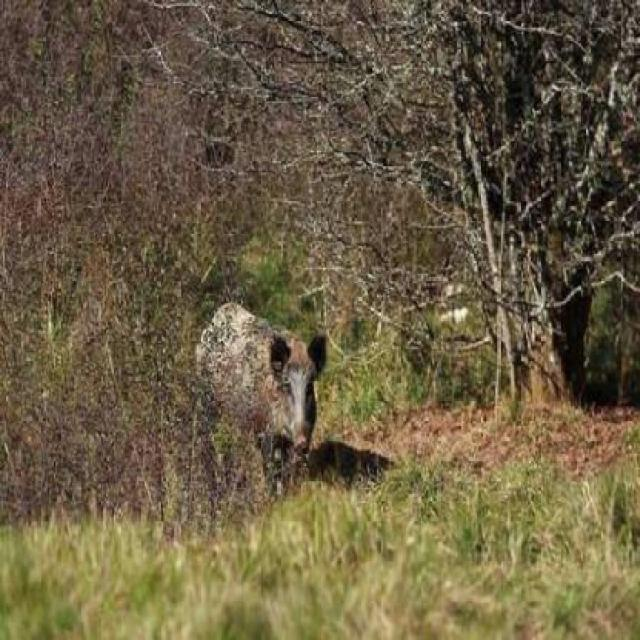Boar: (180, 248, 340, 489)
